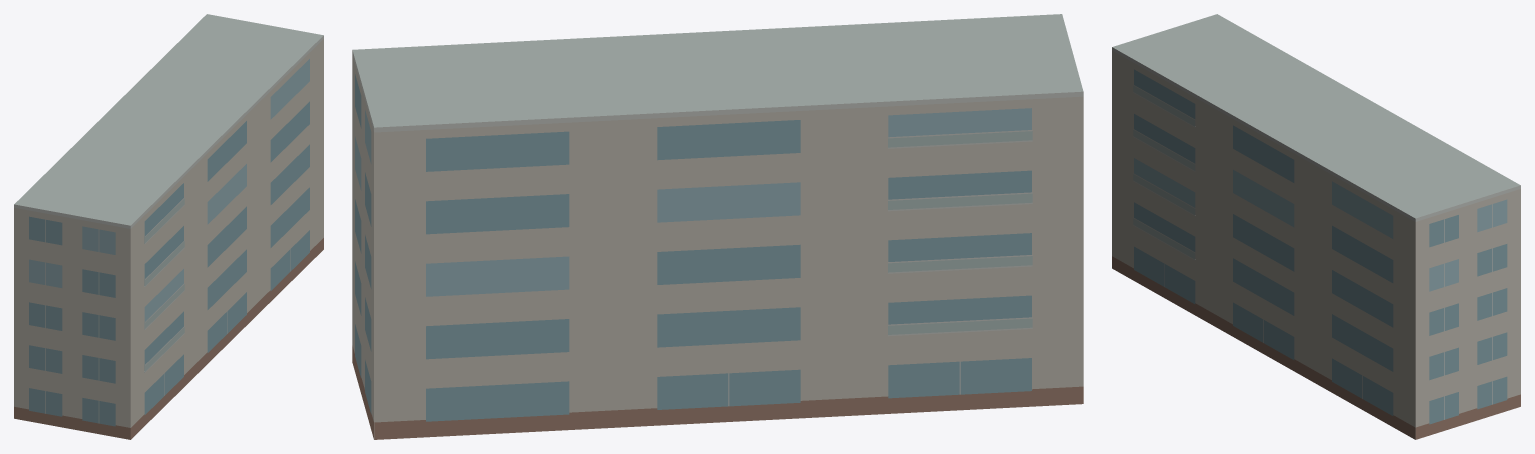
File: survey-upis-32657346.glb
The picture shows the model from 3 angles, left to right: view 1: azimuth 30°, elevation 25°; view 2: azimuth 150°, elevation 25°; view 3: azimuth 270°, elevation 25°; orthographic projection. The views are drawn at different scales.
Parts seen in each view (by area): view 1: survey-upis-32657346.tmp; view 2: survey-upis-32657346.tmp; view 3: survey-upis-32657346.tmp.
Boxes of the visible parts, box(x1,y1,x2,y2) form: survey-upis-32657346.tmp: box(14, 14, 323, 439); survey-upis-32657346.tmp: box(352, 14, 1083, 439); survey-upis-32657346.tmp: box(1112, 14, 1520, 439).
Bounding box in the file's own units: 30.72 × 15.5 × 25.95.
